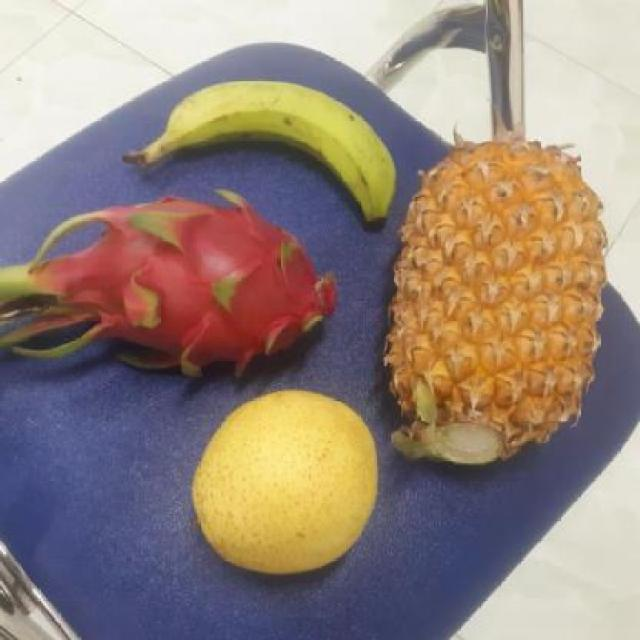banana: (154, 77, 403, 221)
dragon fruit: (56, 190, 356, 381)
pear: (191, 391, 387, 578)
pineapple: (398, 150, 610, 468)
